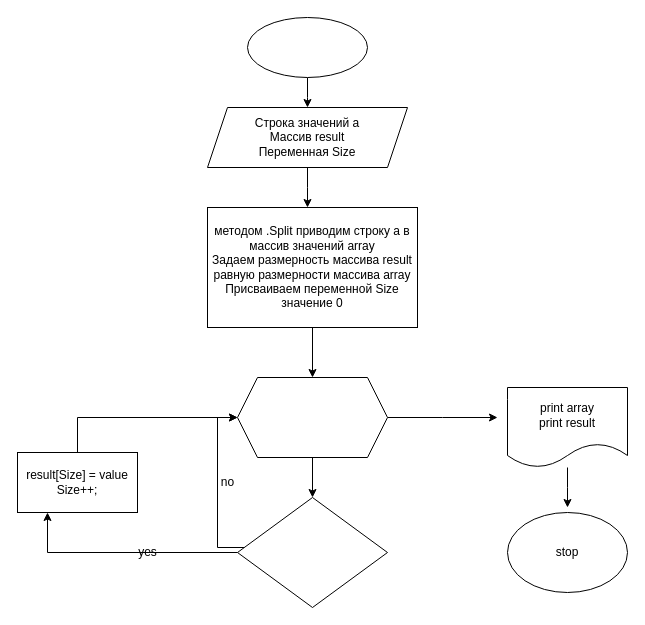
Image size: 645x625. Some labels were removed from this diagram. The shapes that lost their labels are listed below. From the top down, each one's centre as x and y in pixels, then its label:
point (307, 47): start
point (312, 417): foreach (var value in array)
point (312, 552): if (value.Length <= 3)
